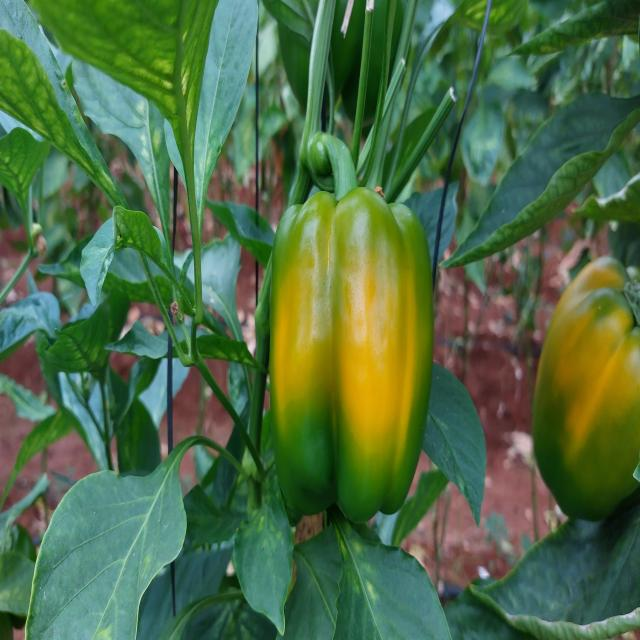GreenishYellow--Can-be-Harvested: (248, 209, 450, 521), (533, 238, 640, 548)
